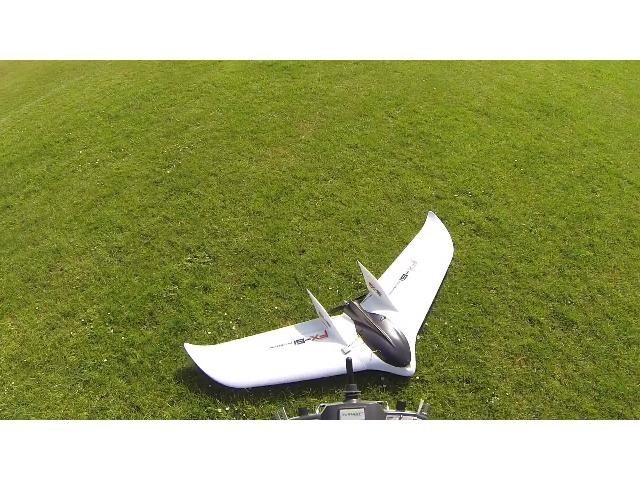Anti-Drone: (179, 205, 469, 391)
